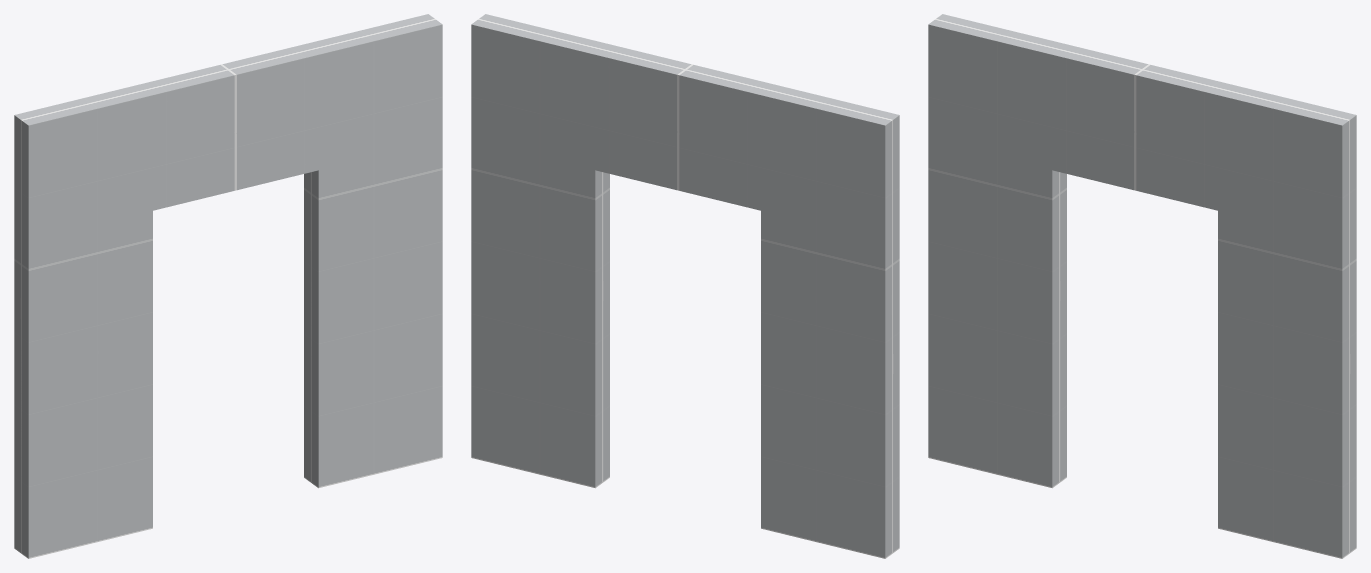
Rendered from doorway.glb.
The picture shows the model from 3 angles, left to right: view 1: azimuth 30°, elevation 25°; view 2: azimuth 150°, elevation 25°; view 3: azimuth 330°, elevation 25°; orthographic projection.
Visible parts, largest first — view 1: doorway_mesh, doorway_mesh.001, doorway_mesh.002; view 2: doorway_mesh, doorway_mesh.001, doorway_mesh.002; view 3: doorway_mesh.001, doorway_mesh, doorway_mesh.002.
Boxes of the visible parts, <box> form: doorway_mesh: <box>14,84,152,558</box>; doorway_mesh.001: <box>304,14,442,488</box>; doorway_mesh.002: <box>139,44,318,210</box>; doorway_mesh: <box>761,84,899,558</box>; doorway_mesh.001: <box>471,14,609,488</box>; doorway_mesh.002: <box>595,44,774,210</box>; doorway_mesh.001: <box>1218,84,1356,558</box>; doorway_mesh: <box>928,14,1066,488</box>; doorway_mesh.002: <box>1052,44,1231,210</box>.
Size of the model in its own units: 3 by 3 by 0.18.
1 material, 1 textured.
